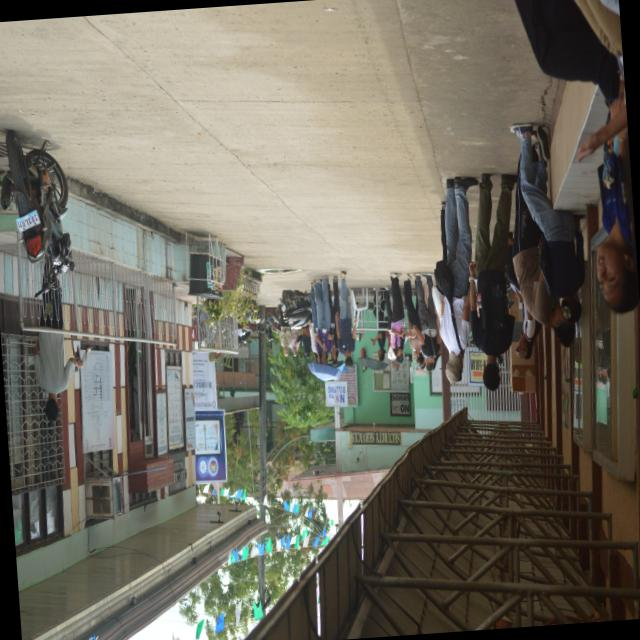person: (510, 122, 584, 321), (512, 159, 574, 346), (469, 173, 515, 390), (439, 176, 477, 381), (596, 138, 639, 312), (33, 330, 81, 421), (413, 272, 441, 370), (335, 271, 356, 368), (403, 273, 424, 364), (313, 276, 332, 363), (388, 272, 405, 362), (370, 289, 387, 360), (326, 275, 339, 365), (278, 303, 291, 355), (289, 328, 299, 355)
